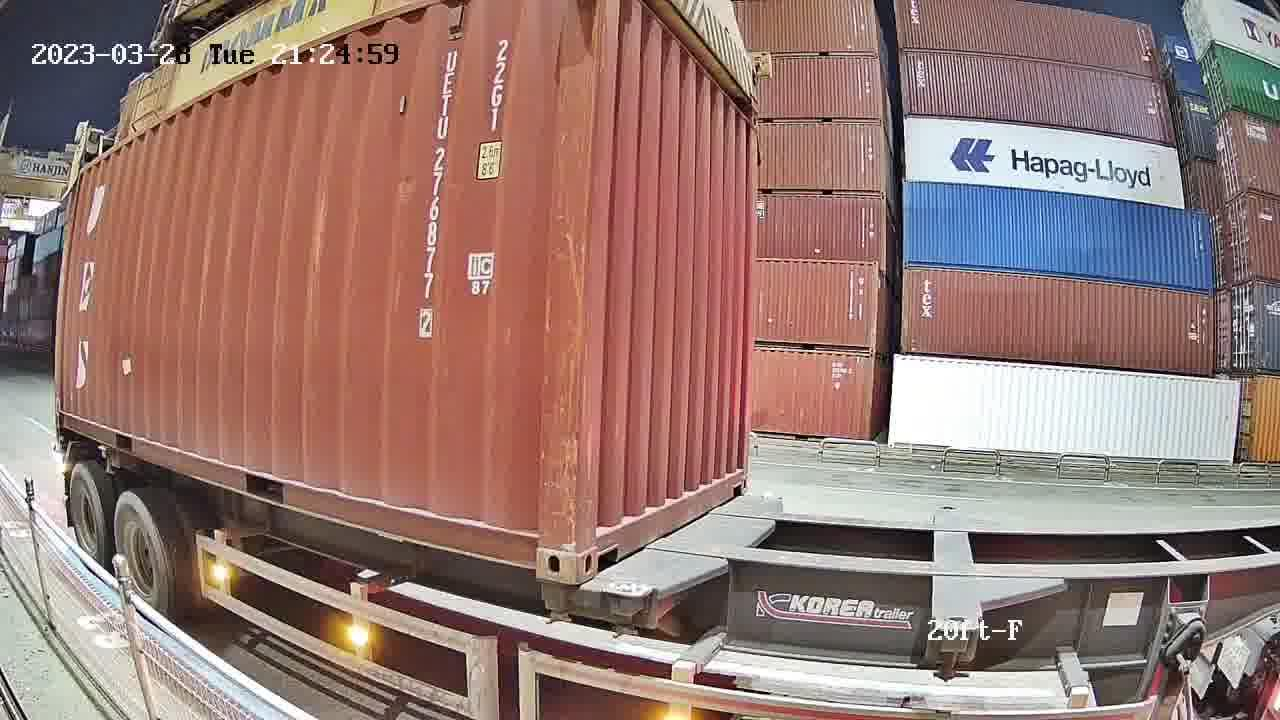Chassis: (608, 497, 782, 596)
Cone: (605, 582, 649, 638), (535, 577, 574, 627)
Hole_L: (576, 497, 627, 587)
Hole_R: (501, 501, 575, 587), (727, 451, 749, 499)
Tire: (114, 492, 168, 616), (70, 466, 107, 564)
